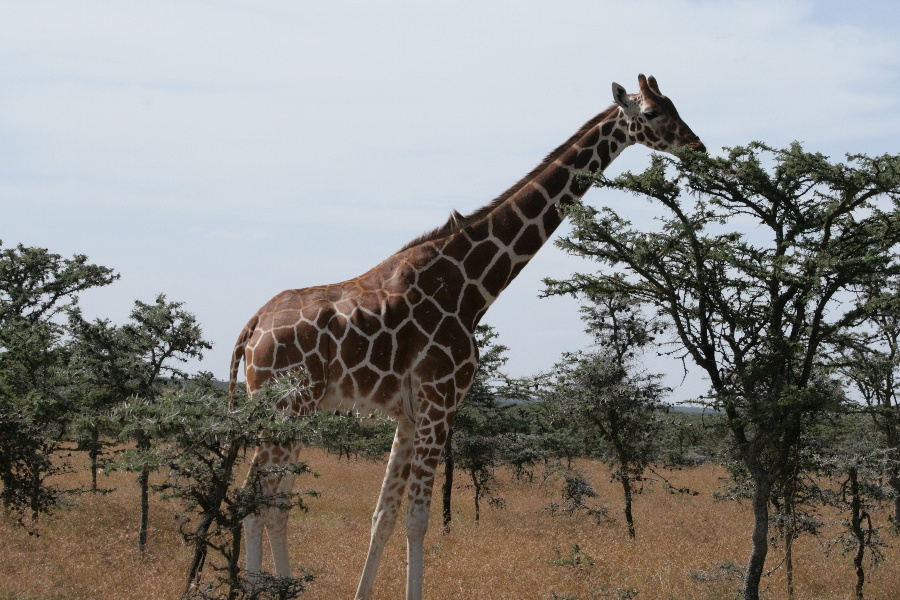giraffe: (198, 67, 716, 599)
